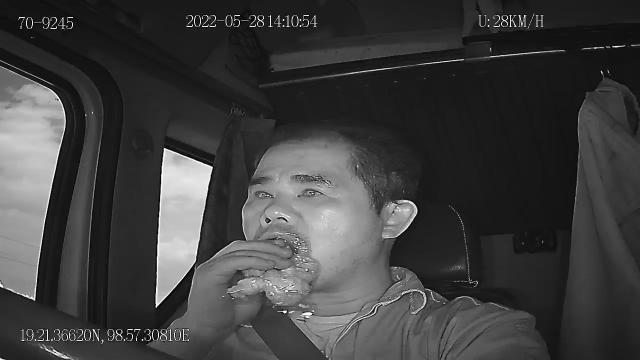SafeDriving: (290, 178, 332, 204), (246, 180, 278, 206)
Seatbelt: (244, 300, 332, 360)
